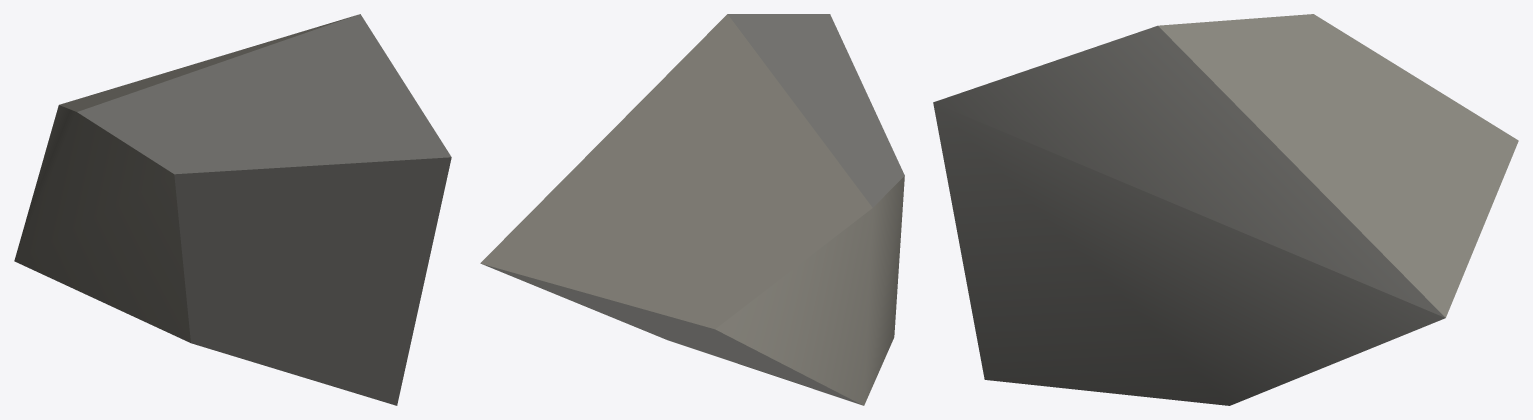
Rendered from rock4.FBX.
3 views of the same model, side by side, from view 1: azimuth 30°, elevation 25°; view 2: azimuth 150°, elevation 25°; view 3: azimuth 270°, elevation 25° (orthographic). The views are drawn at different scales.
Visible parts, largest first — view 1: Object023; view 2: Object023; view 3: Object023.
Boxes of the visible parts, x1,y1,x2,y2 form: Object023: (14,14,451,405); Object023: (480,14,904,405); Object023: (933,14,1518,405).
Size of the model in its own units: 9.68 by 8.2 by 11.59.
Materials: 1 (1 with a texture image).
